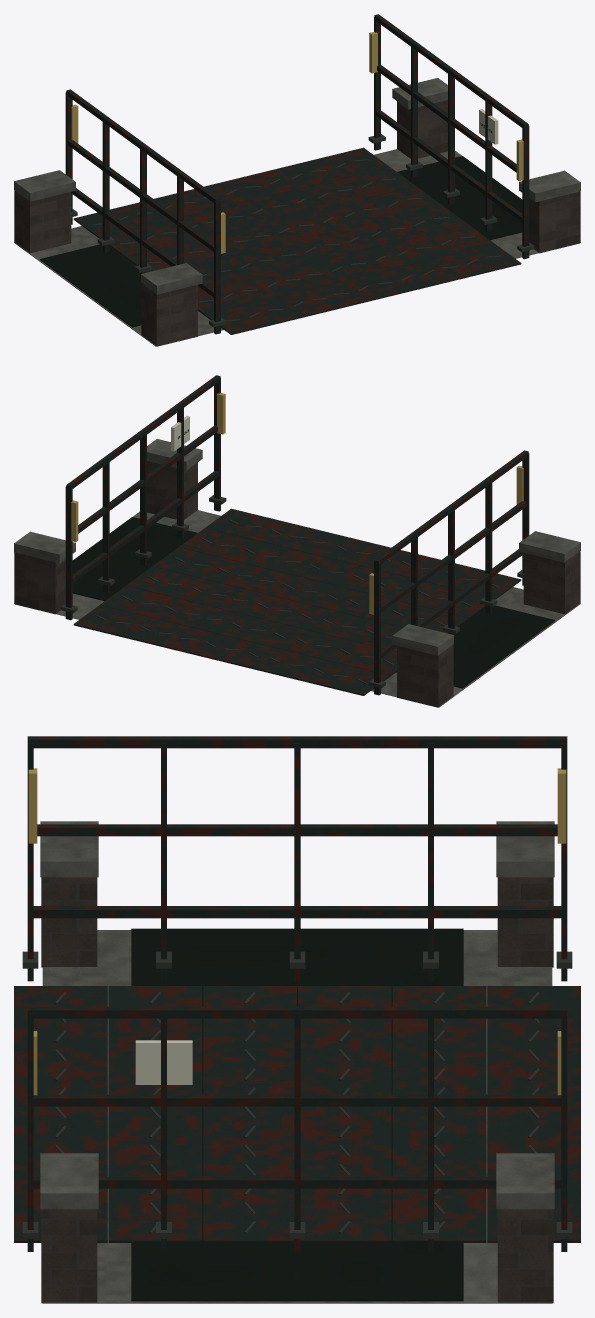
The model's file is canal-footbridge.glb.
The picture shows the model from 3 angles, top to bottom: view 1: azimuth 30°, elevation 25°; view 2: azimuth 150°, elevation 25°; view 3: azimuth 270°, elevation 25°; orthographic projection. The views are drawn at different scales.
Parts seen in each view (by area): view 1: Bridge bay water, Individual steel bridge deck plate, Individual steel bridge deck plate.001, Individual steel bridge deck plate.003, Individual steel bridge deck plate.004, Individual steel bridge deck plate.005, Individual steel bridge deck plate.002, Bridge abutment wing.001, Bridge abutment wing, Bridge bay concrete invert, Bridge abutment wing.002, Bridge abutment wing.003 (+21 smaller); view 2: Bridge bay water, Individual steel bridge deck plate.005, Individual steel bridge deck plate.004, Individual steel bridge deck plate.001, Individual steel bridge deck plate.002, Individual steel bridge deck plate, Individual steel bridge deck plate.003, Bridge abutment wing, Bridge abutment wing.001, Bridge bay concrete invert, Bridge abutment wing.003, Bridge abutment wing.002 (+21 smaller); view 3: Bridge bay water, Individual steel bridge deck plate.002, Individual steel bridge deck plate.003, Individual steel bridge deck plate.004, Individual steel bridge deck plate.001, Individual steel bridge deck plate, Individual steel bridge deck plate.005, Bridge bay concrete invert, Bridge tubular handrail.005, Bridge tubular handrail.002, Bridge tubular handrail, Bridge tubular handrail.004 (+23 smaller).
Part boxes in pixels (box(x1,y1,x2,y2)): Bridge bay water: box(40, 156, 522, 327); Individual steel bridge deck plate: box(205, 244, 521, 334); Individual steel bridge deck plate.001: box(198, 224, 494, 315); Individual steel bridge deck plate.003: box(126, 186, 442, 272); Individual steel bridge deck plate.004: box(100, 167, 415, 256); Individual steel bridge deck plate.005: box(73, 147, 389, 238); Individual steel bridge deck plate.002: box(192, 205, 468, 290); Bridge abutment wing.001: box(14, 190, 71, 253); Bridge abutment wing: box(141, 282, 197, 346); Bridge bay concrete invert: box(14, 149, 538, 346); Bridge abutment wing.002: box(529, 191, 580, 253); Bridge abutment wing.003: box(397, 100, 447, 158); Bridge bay water: box(72, 517, 554, 688); Individual steel bridge deck plate.005: box(73, 605, 389, 695); Individual steel bridge deck plate.004: box(100, 585, 396, 676); Individual steel bridge deck plate.001: box(179, 528, 494, 617); Individual steel bridge deck plate.002: box(152, 547, 468, 633); Individual steel bridge deck plate: box(205, 508, 521, 599); Individual steel bridge deck plate.003: box(126, 566, 402, 651); Bridge abutment wing: box(523, 551, 580, 614); Bridge abutment wing.001: box(397, 644, 453, 707); Bridge bay concrete invert: box(56, 510, 580, 707); Bridge abutment wing.003: box(14, 552, 65, 614); Bridge abutment wing.002: box(147, 461, 197, 519); Bridge bay water: box(131, 928, 463, 1301); Individual steel bridge deck plate.002: box(203, 986, 296, 1241); Individual steel bridge deck plate.003: box(298, 986, 391, 1241); Individual steel bridge deck plate.004: box(392, 986, 486, 1242); Individual steel bridge deck plate.001: box(108, 986, 202, 1242); Individual steel bridge deck plate: box(14, 986, 107, 1242); Individual steel bridge deck plate.005: box(487, 986, 580, 1242); Bridge bay concrete invert: box(42, 930, 552, 1303); Bridge tubular handrail.005: box(27, 1006, 567, 1018); Bridge tubular handrail.002: box(27, 736, 567, 748); Bridge tubular handrail: box(33, 906, 561, 918); Bridge tubular handrail.004: box(33, 1094, 561, 1106).
Size of the model in its own units: 4 by 1.22 by 2.57.
7 materials, 4 textured.
